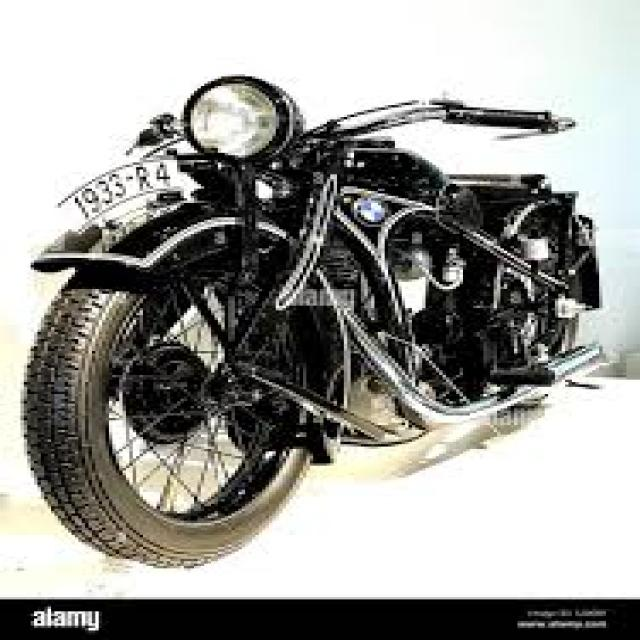Bike: (23, 75, 607, 566)
